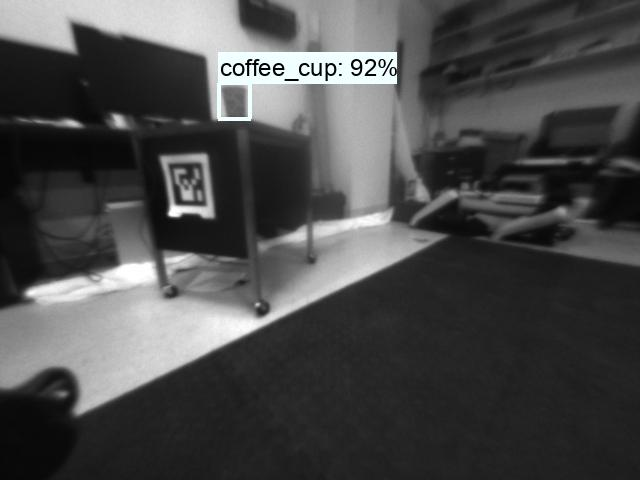coffee_cup: (218, 83, 250, 119)
